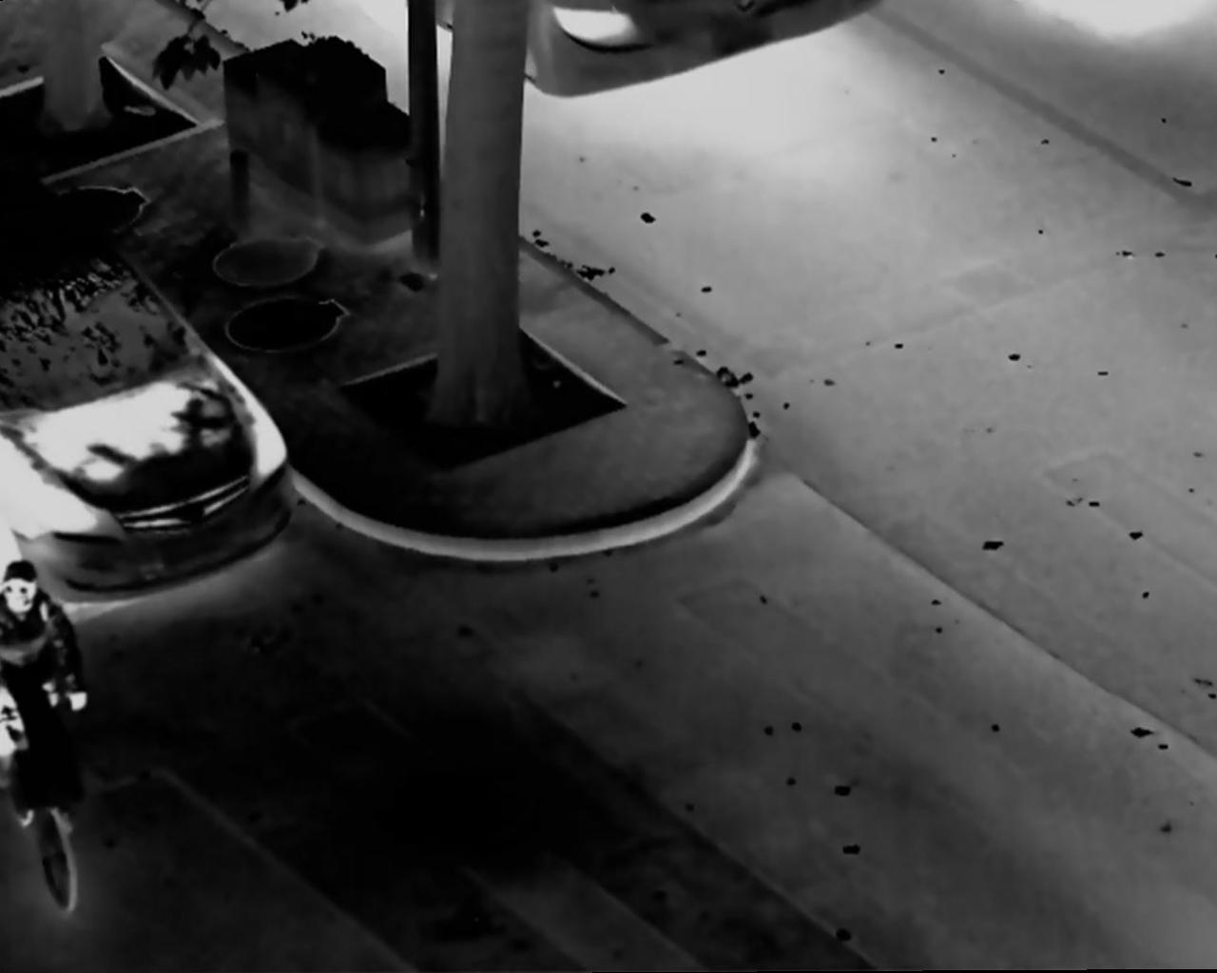person: (6, 553, 93, 841)
